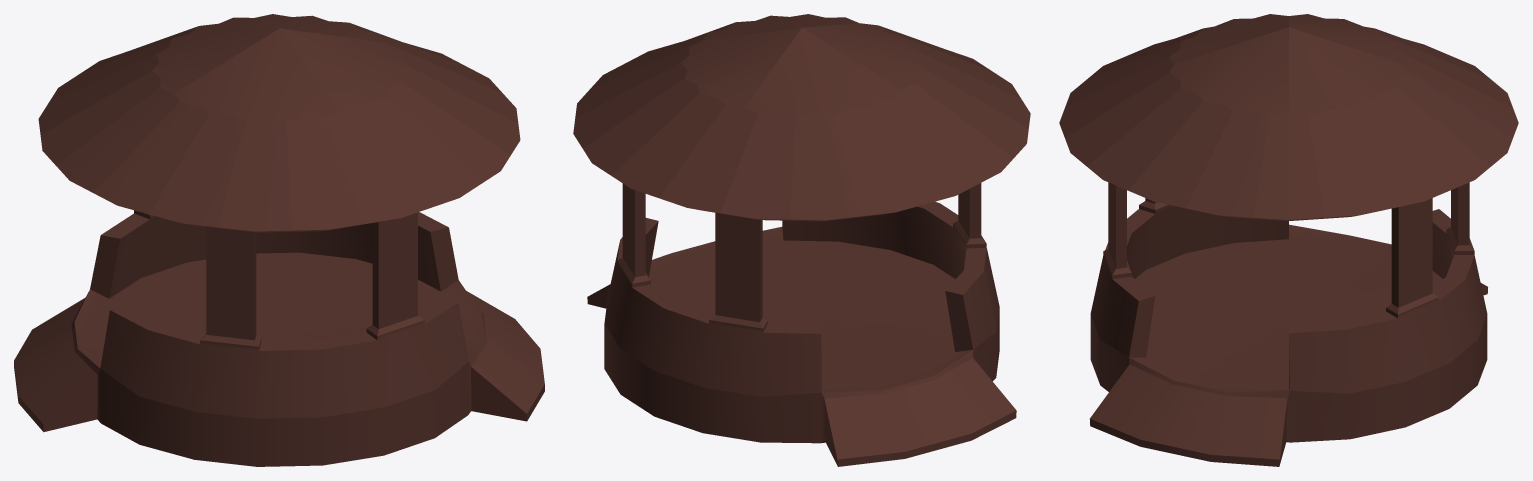
Rendered from BrokenGazebo.fbx.
3 renders of one model, left to right at view 1: azimuth 30°, elevation 25°; view 2: azimuth 150°, elevation 25°; view 3: azimuth 270°, elevation 25°, orthographic. The views are drawn at different scales.
Parts seen in each view (by area): view 1: polySurface16, polySurface6, polySurface18, polySurface4, polySurface5, polySurface17, polySurface11, polySurface15, polySurface3; view 2: polySurface16, polySurface5, polySurface3, polySurface17, polySurface6, polySurface18, polySurface10, polySurface4, polySurface14, polySurface11; view 3: polySurface16, polySurface3, polySurface4, polySurface17, polySurface18, polySurface5, polySurface6, polySurface14, polySurface15, polySurface10.
Boxes of the visible parts, bbox=[...] form: polySurface16: bbox=[14, 252, 544, 466]; polySurface6: bbox=[70, 28, 400, 232]; polySurface18: bbox=[100, 299, 468, 418]; polySurface4: bbox=[280, 28, 520, 217]; polySurface5: bbox=[38, 23, 278, 180]; polySurface17: bbox=[90, 210, 458, 298]; polySurface11: bbox=[206, 226, 256, 340]; polySurface15: bbox=[372, 212, 417, 328]; polySurface3: bbox=[219, 14, 487, 77]; polySurface16: bbox=[587, 227, 1016, 466]; polySurface5: bbox=[687, 28, 1000, 221]; polySurface3: bbox=[573, 27, 801, 207]; polySurface17: bbox=[604, 218, 821, 396]; polySurface6: bbox=[802, 23, 1030, 171]; polySurface18: bbox=[782, 201, 999, 351]; polySurface10: bbox=[715, 212, 762, 322]; polySurface4: bbox=[604, 14, 858, 74]; polySurface14: bbox=[622, 183, 645, 277]; polySurface11: bbox=[958, 183, 981, 238]; polySurface16: bbox=[1090, 224, 1487, 466]; polySurface3: bbox=[1289, 27, 1518, 220]; polySurface4: bbox=[1059, 27, 1288, 220]; polySurface17: bbox=[1289, 209, 1487, 393]; polySurface18: bbox=[1090, 201, 1288, 357]; polySurface5: bbox=[1289, 14, 1518, 122]; polySurface6: bbox=[1059, 14, 1288, 122]; polySurface14: bbox=[1391, 198, 1432, 307]; polySurface15: bbox=[1108, 182, 1126, 268]; polySurface10: bbox=[1451, 182, 1469, 245].
Size of the model in its own units: 20.07 by 14.59 by 18.24.
